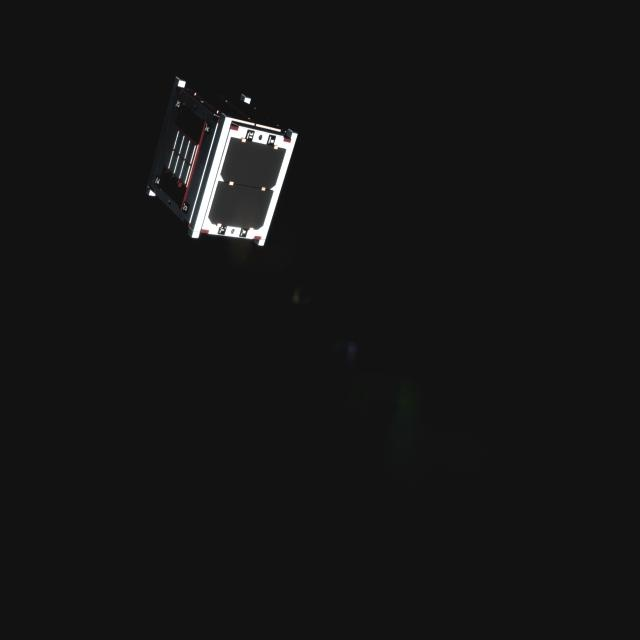medium_debris: (146, 64, 302, 256)
